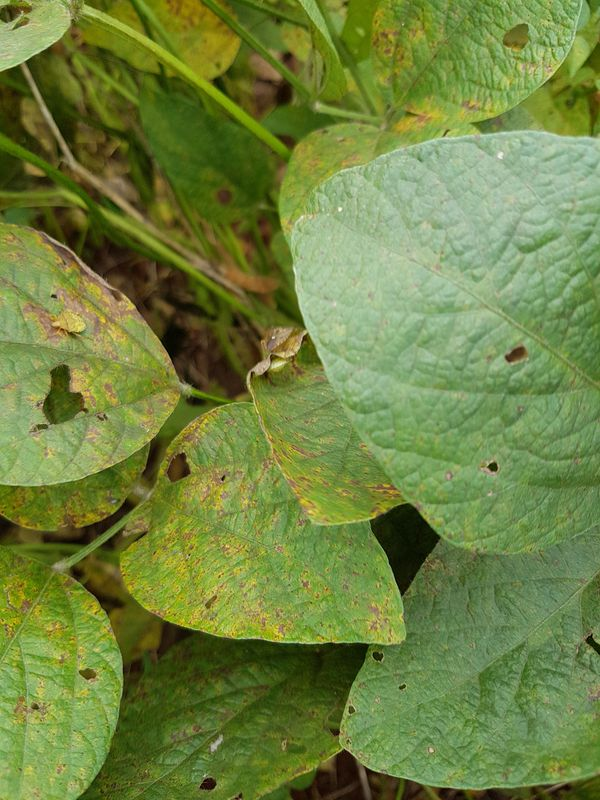Euschistus_heros_adulto: (260, 320, 296, 354)
Euschistus_heros_ninfa: (46, 306, 90, 344)
